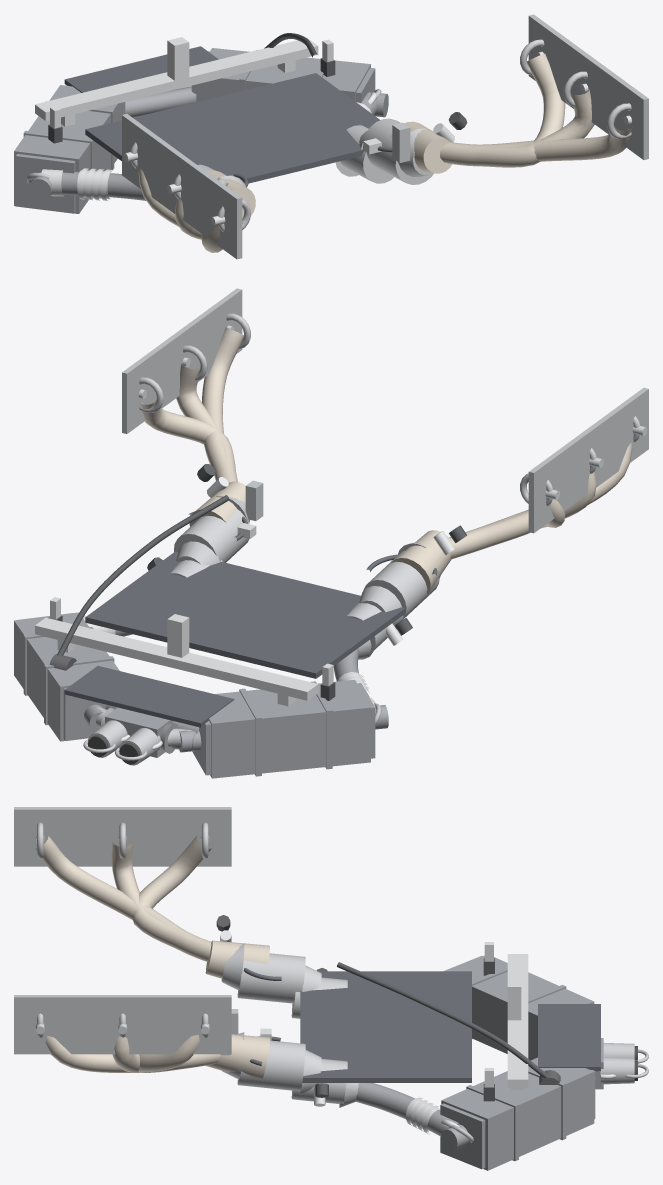
Rendered from exhaust.glb.
3 views of the same model, one above another, from view 1: azimuth 30°, elevation 25°; view 2: azimuth 150°, elevation 25°; view 3: azimuth 270°, elevation 25° (orthographic). The views are drawn at different scales.
Visible parts, largest first — view 1: heatShield_underbody, manifoldGasket_L, manifoldGasket_R, silencerHolderBridge, mufflerBody_L, mufflerBody_R, primaryRunner_R_0, primaryRunner_R_2, heatShield_midPipe, mufflerEndOut_L, primaryRunner_R_1, catBody_R (+18 smaller); view 2: heatShield_underbody, mufflerBody_L, manifoldGasket_L, manifoldGasket_R, silencerHolderBridge, heatShield_midPipe, mufflerBody_R, primaryRunner_R_2, primaryRunner_L_2, catBody_R, primaryRunner_R_0, catBody_L (+12 smaller); view 3: heatShield_underbody, manifoldGasket_R, manifoldGasket_L, mufflerBody_R, mufflerBody_L, heatShield_midPipe, primaryRunner_L_2, primaryRunner_L_0, catBody_L, silencerHolderBridge, catBody_R, headerCollector_R (+13 smaller).
Part boxes in pixels (x1=…): heatShield_underbody: x1=85, y1=73, x2=380, y2=183; manifoldGasket_L: x1=122, y1=114, x2=242, y2=259; manifoldGasket_R: x1=528, y1=14, x2=648, y2=159; silencerHolderBridge: x1=35, y1=38, x2=318, y2=120; mufflerBody_L: x1=14, y1=85, x2=125, y2=213; mufflerBody_R: x1=196, y1=48, x2=370, y2=101; primaryRunner_R_0: x1=440, y1=53, x2=565, y2=167; primaryRunner_R_2: x1=439, y1=126, x2=632, y2=165; heatShield_midPipe: x1=64, y1=46, x2=218, y2=92; mufflerEndOut_L: x1=16, y1=154, x2=75, y2=213; primaryRunner_R_1: x1=440, y1=90, x2=594, y2=166; catBody_R: x1=363, y1=118, x2=433, y2=184; heatShield_underbody: x1=85, y1=552, x2=405, y2=678; mufflerBody_L: x1=209, y1=679, x2=370, y2=778; manifoldGasket_L: x1=528, y1=387, x2=648, y2=533; manifoldGasket_R: x1=122, y1=288, x2=242, y2=433; silencerHolderBridge: x1=35, y1=617, x2=318, y2=700; heatShield_midPipe: x1=64, y1=666, x2=234, y2=727; mufflerBody_R: x1=14, y1=612, x2=119, y2=741; primaryRunner_R_2: x1=202, y1=327, x2=243, y2=482; primaryRunner_L_2: x1=449, y1=442, x2=632, y2=559; catBody_R: x1=174, y1=509, x2=249, y2=562; primaryRunner_R_0: x1=138, y1=400, x2=237, y2=482; catBody_L: x1=363, y1=550, x2=439, y2=619; heatShield_underbody: x1=300, y1=971, x2=471, y2=1082; manifoldGasket_R: x1=14, y1=995, x2=231, y2=1054; manifoldGasket_L: x1=14, y1=807, x2=231, y2=866; mufflerBody_R: x1=441, y1=1057, x2=594, y2=1170; mufflerBody_L: x1=446, y1=955, x2=594, y2=1060; heatShield_midPipe: x1=538, y1=1004, x2=600, y2=1071; primaryRunner_L_2: x1=34, y1=836, x2=211, y2=961; primaryRunner_L_0: x1=132, y1=836, x2=211, y2=960; catBody_L: x1=237, y1=953, x2=305, y2=1003; silencerHolderBridge: x1=507, y1=954, x2=528, y2=1087; catBody_R: x1=237, y1=1040, x2=305, y2=1090; headerCollector_R: x1=206, y1=1034, x2=269, y2=1079.
Size of the model in its own units: 4.12 by 1.81 by 5.54.
